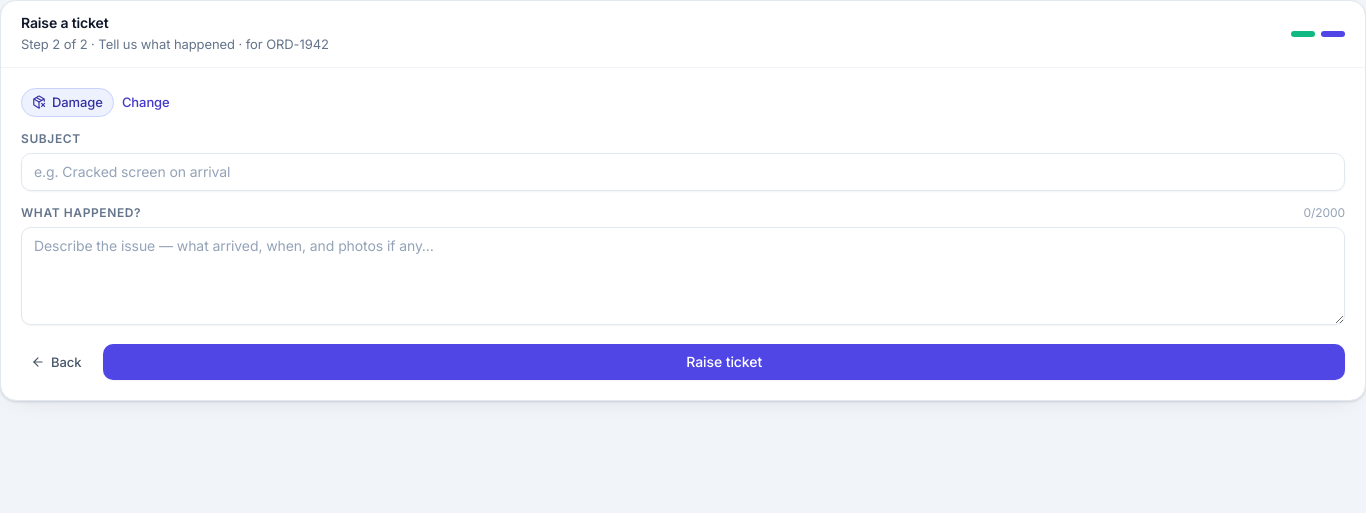
Test: TicketForm › shows an error state when creation fails
Type "Cracked" into the field labelled "Subject" at (683, 172), box [21,153,1345,191]
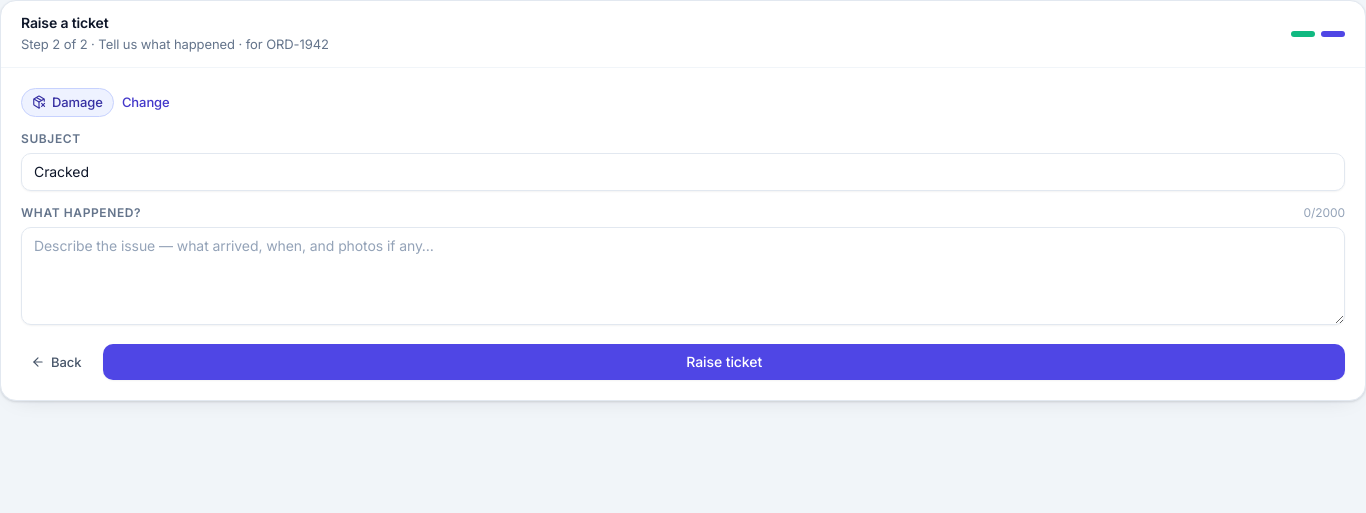
Type "It broke" into the text box labelled "What happened?" at (683, 276), box [21,227,1345,325]
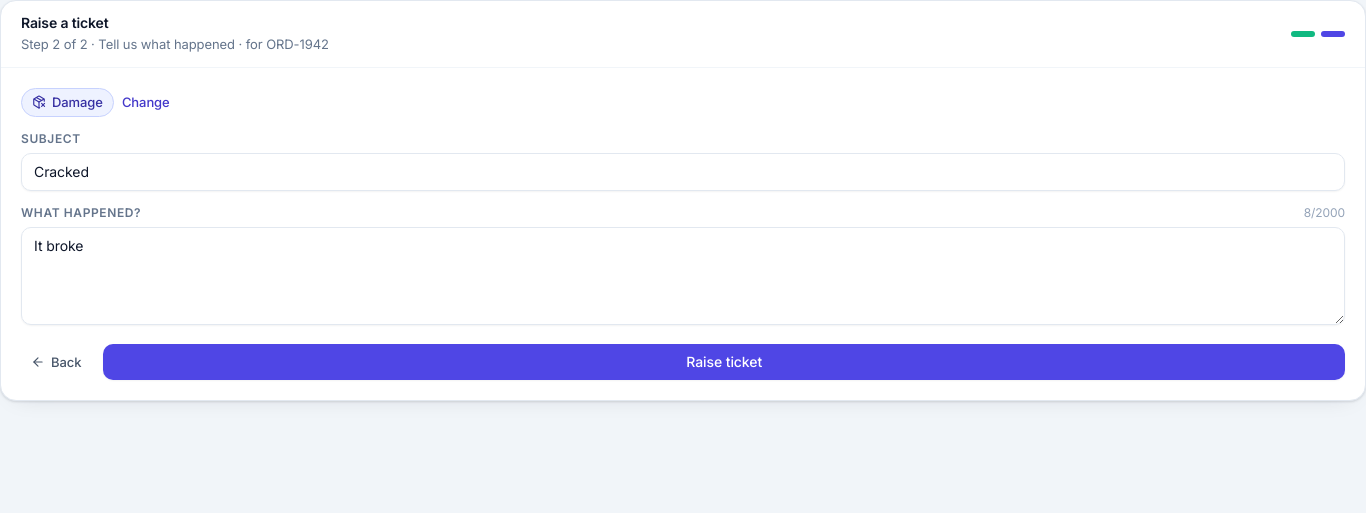
Click the button "Raise ticket" at (724, 362), box [103,344,1345,380]
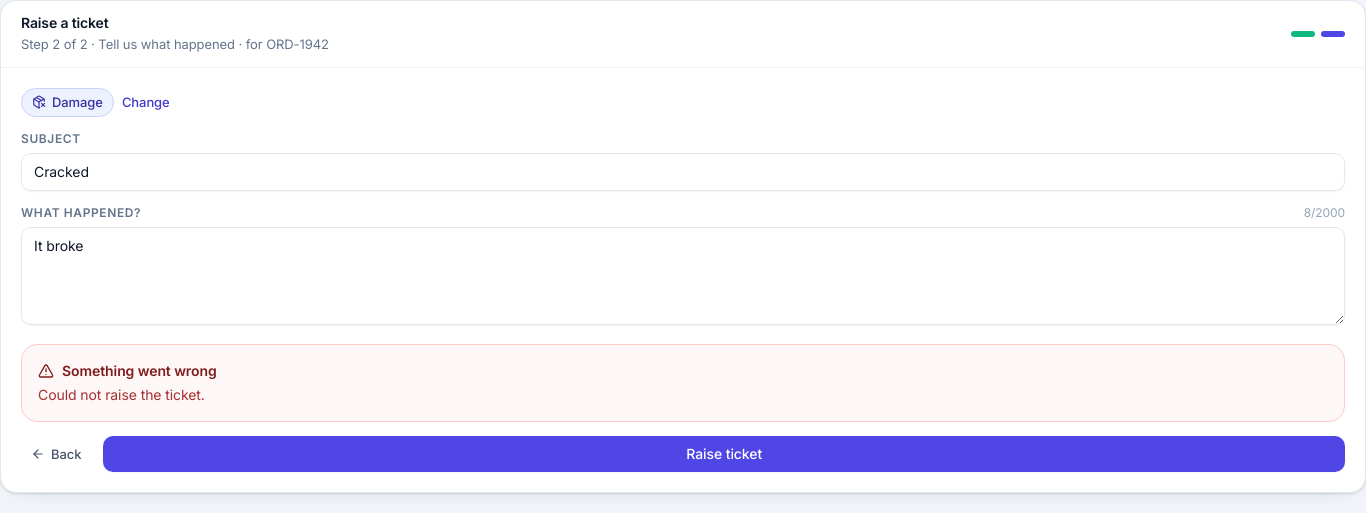
Result: the message "Something went wrong Could not raise the ticket." is shown at [21,344,1345,422]
